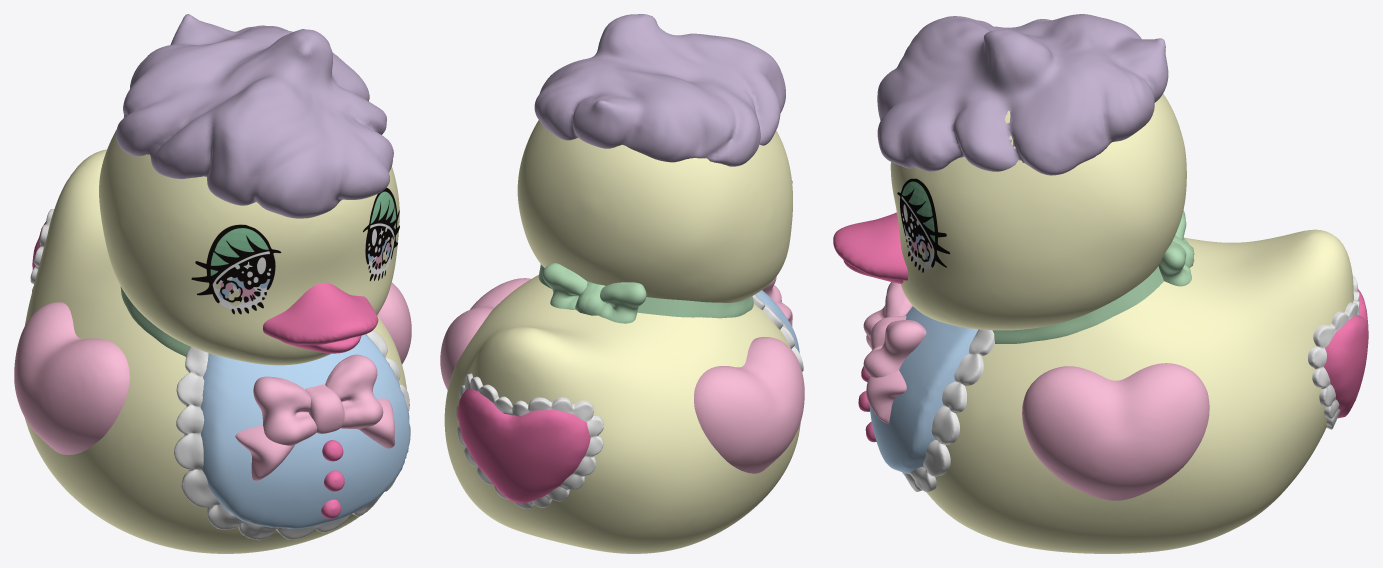
The picture shows the model from 3 angles, left to right: view 1: azimuth 30°, elevation 25°; view 2: azimuth 150°, elevation 25°; view 3: azimuth 270°, elevation 25°; orthographic projection. The views are drawn at different scales.
Visible parts, largest first — view 1: Kami.001, Fix, Torebi 5, Maekake, Torebi 7, Ribon.001, 平面.001, Furi.001, Torebi 3, Torebi 4, Botann, チューブ 4; view 2: Torebi 5, Fix, Kami.001, Torebi 7, Patch 1, Furi, Patch 14, Torebi 4, チューブ 4, Furi.001, Maekake; view 3: Torebi 5, Fix, Kami.001, Torebi 4, Maekake, Ribon.001, Furi.001, Torebi 3, Patch 1, 平面.001, チューブ 4, Furi (+1 smaller).
Part boxes in pixels (x1,y1,x2,y2): Kami.001: (116,14,393,218); Fix: (99,118,399,365); Torebi 5: (25,149,406,553); Maekake: (200,334,410,528); Torebi 7: (14,302,129,454); Ribon.001: (235,354,394,480); 平面.001: (191,188,399,314); Furi.001: (174,330,410,540); Torebi 3: (263,282,378,353); Torebi 4: (377,282,411,364); Botann: (321,440,344,518); チューブ 4: (120,286,190,356); Torebi 5: (444,275,800,553); Fix: (517,120,792,302); Kami.001: (534,14,785,166); Torebi 7: (694,337,804,473); Patch 1: (457,388,590,503); Furi: (456,373,603,508); Patch 14: (542,263,646,323); Torebi 4: (440,278,530,389); チューブ 4: (538,264,753,318); Furi.001: (752,294,804,387); Maekake: (756,290,799,352); Torebi 5: (926,229,1353,553); Fix: (890,93,1186,330); Kami.001: (877,14,1168,175); Torebi 4: (1022,363,1209,500); Maekake: (870,306,978,474); Ribon.001: (863,282,926,423); Furi.001: (902,329,994,492); Torebi 3: (833,212,908,283); Patch 1: (1324,289,1368,418); 平面.001: (897,178,949,272); チューブ 4: (992,266,1163,343); Furi: (1308,275,1359,429).
Bounding box in the file's own units: 50.64 × 64.82 × 64.03.
8 materials, 1 textured.
